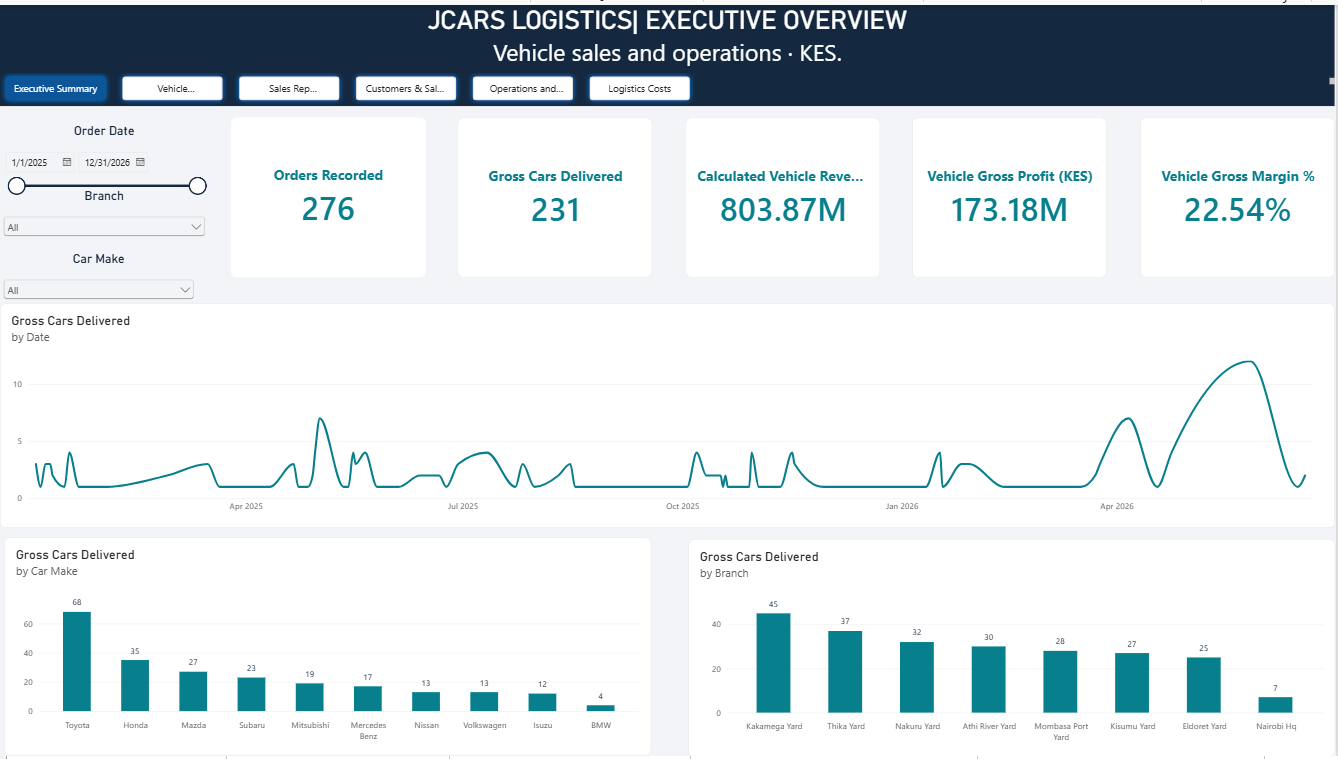

The dashboard page shown, as its layout file describes it:
{"tool":"powerbi","page":{"name":"Executive Summary","canvas":[1920,1080],"ordinal":0},"visuals":[{"type":"shape","box":[0,0,1919.3,145.4],"z":0},{"type":"textbox","title":"JCARS LOGISTICS| EXECUTIVE OVERVIEW","box":[0,0,1919.9,114.3],"z":1000},{"type":"cardVisual","fields":{"Data":["Fact_Sales.Orders Recorded"]},"box":[332.2,161.8,280,230],"z":2000},{"type":"cardVisual","fields":{"Data":["Fact_Sales.Gross Cars Delivered"]},"box":[659,161.8,280,230],"z":3000},{"type":"cardVisual","fields":{"Data":["Fact_Sales.Calculated Vehicle Revenue (KES)"]},"box":[985.8,161.8,280,230],"z":4000},{"type":"cardVisual","fields":{"Data":["Fact_Sales.Vehicle Gross Profit (KES)"]},"box":[1312.6,161.8,280,230],"z":5000},{"type":"cardVisual","fields":{"Data":["Fact_Sales.Vehicle Gross Margin %"]},"box":[1639.4,161.8,280,230],"z":6000},{"type":"lineChart","fields":{"Category":["DimDate.Date"],"Y":["Fact_Sales.Gross Cars Delivered"]},"box":[0,429.3,1919.3,322.5],"z":7000},{"type":"clusteredColumnChart","fields":{"Category":["DimCarModel.Car Make"],"Y":["Fact_Sales.Gross Cars Delivered"]},"box":[6.8,765.4,930,313],"z":8000},{"type":"clusteredColumnChart","fields":{"Category":["DimBranch.Branch"],"Y":["Fact_Sales.Gross Cars Delivered"]},"box":[990.3,767.7,930,313],"z":9000},{"type":"slicer","title":"Order Date ","fields":{"Values":["DimDate.Date"]},"box":[0,170.4,299.8,120.8],"z":10000},{"type":"slicer","title":"Branch","fields":{"Values":["DimBranch.Branch"]},"box":[0,263.2,299.8,75.5],"z":11000},{"type":"slicer","title":"Car Make","fields":{"Values":["DimCarModel.Car Make"]},"box":[0,354.3,283.9,75],"z":12000},{"type":"pageNavigator","box":[0,94.9,1000,50],"z":13000}]}

Visuals, with their boxes in screenshot pixels (x1, y1, x2, y2), scaled from the page's 1920x1080 canvas onto the 1338x759 screenshot:
shape: x1=0 y1=0 x2=1337 y2=102
"JCARS LOGISTICS| EXECUTIVE OVERVIEW" textbox: x1=0 y1=0 x2=1337 y2=80
cardVisual - Fact_Sales.Orders Recorded: x1=232 y1=114 x2=427 y2=275
cardVisual - Fact_Sales.Gross Cars Delivered: x1=459 y1=114 x2=654 y2=275
cardVisual - Fact_Sales.Calculated Vehicle Revenue (KES): x1=687 y1=114 x2=882 y2=275
cardVisual - Fact_Sales.Vehicle Gross Profit (KES): x1=915 y1=114 x2=1110 y2=275
cardVisual - Fact_Sales.Vehicle Gross Margin %: x1=1142 y1=114 x2=1337 y2=275
lineChart - DimDate.Date x Fact_Sales.Gross Cars Delivered: x1=0 y1=302 x2=1337 y2=528
clusteredColumnChart - DimCarModel.Car Make x Fact_Sales.Gross Cars Delivered: x1=5 y1=538 x2=653 y2=758
clusteredColumnChart - DimBranch.Branch x Fact_Sales.Gross Cars Delivered: x1=690 y1=540 x2=1337 y2=758
"Order Date " slicer: x1=0 y1=120 x2=209 y2=205
"Branch" slicer: x1=0 y1=185 x2=209 y2=238
"Car Make" slicer: x1=0 y1=249 x2=198 y2=302
pageNavigator: x1=0 y1=67 x2=697 y2=102
